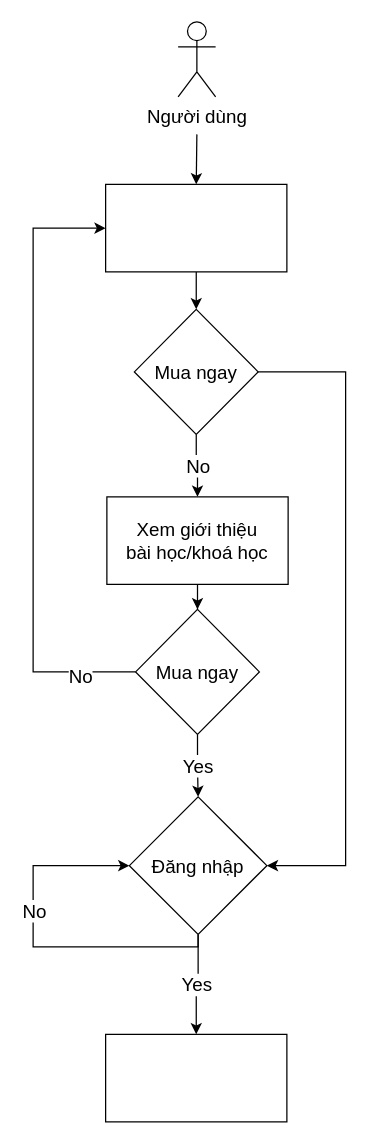
The diagram is 378 pixels wide and 1144 high, and some of its shapes have lost their labels. The centre of each missing label's shape, as x and y in pixels:
Thanh toán: [195,1077]
Tìm kiếm bài học/khoá học: [195,227]
